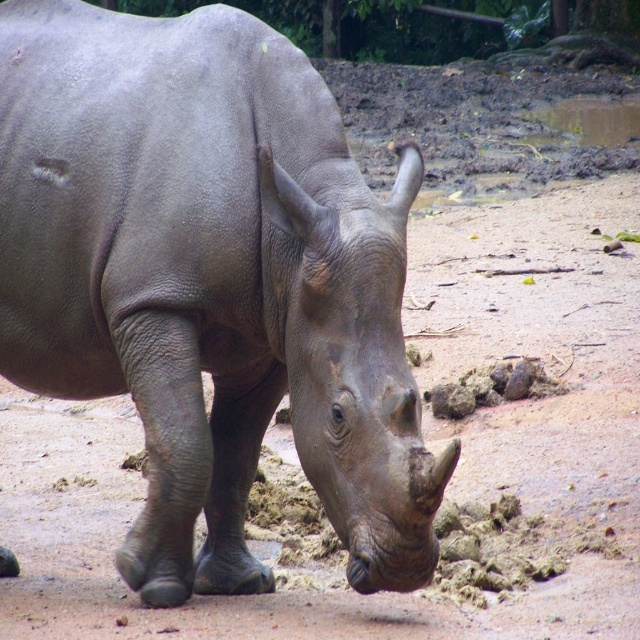Rhinoceros: (0, 0, 461, 608)
